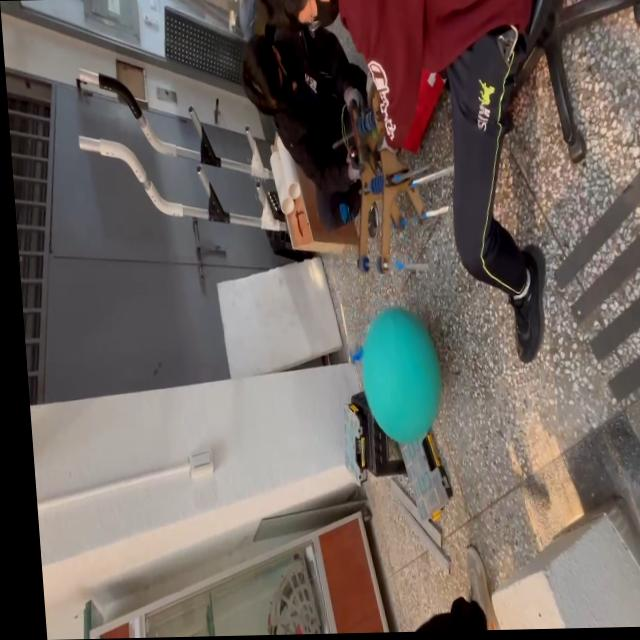ALGAE: (355, 304, 448, 446)
